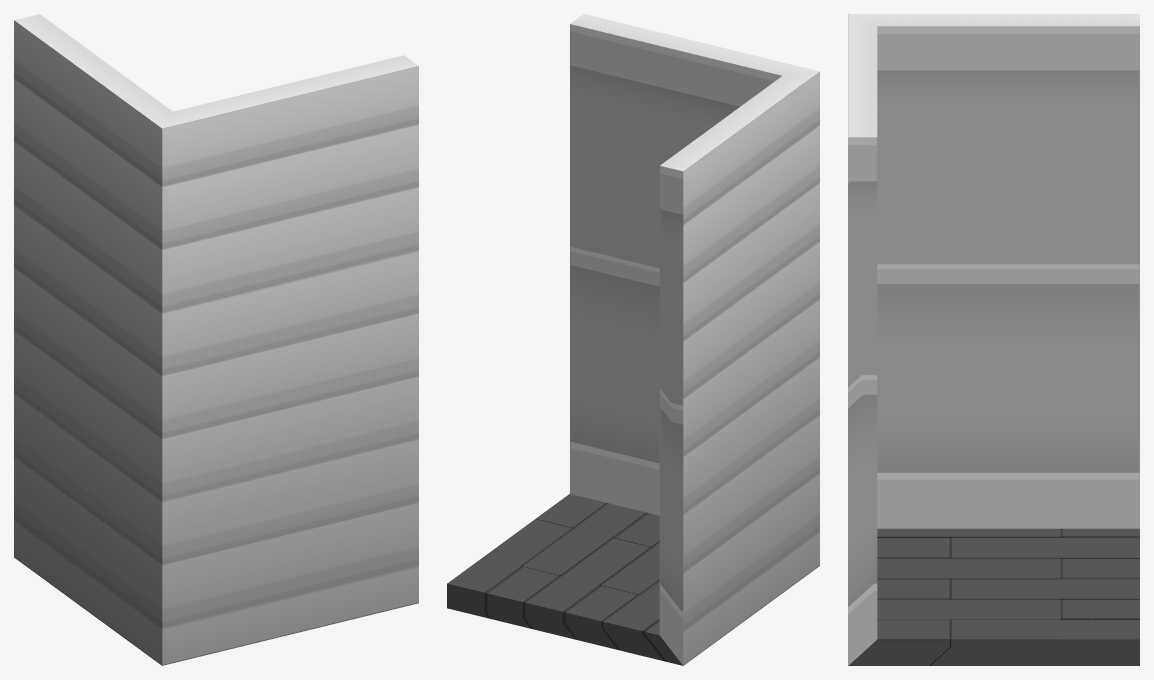
The model's file is building_02_corner_tile.obj.
3 renders of one model, left to right at view 1: azimuth 30°, elevation 25°; view 2: azimuth 150°, elevation 25°; view 3: azimuth 270°, elevation 25°, orthographic. The views are drawn at different scales.
Parts seen in each view (by area): view 1: Corner_Cube; view 2: Corner_Cube; view 3: Corner_Cube.
Part boxes in pixels (x1,y1,x2,y2): Corner_Cube: [14, 14, 418, 665]; Corner_Cube: [447, 14, 819, 665]; Corner_Cube: [848, 14, 1139, 665].
Size of the model in its own units: 2 by 4 by 2.
